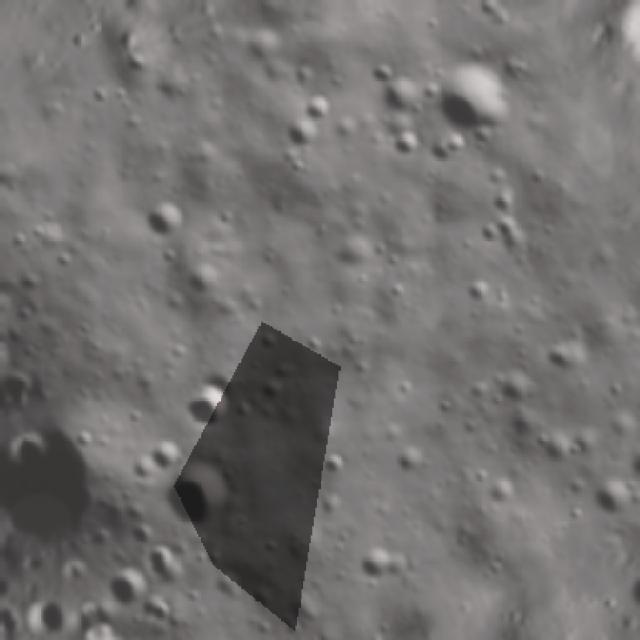crater: (417, 43, 535, 160), (143, 444, 252, 547), (341, 527, 427, 605), (171, 374, 246, 444), (126, 186, 199, 254), (575, 461, 640, 534), (369, 59, 437, 127), (414, 120, 477, 191), (136, 534, 202, 600), (478, 348, 542, 414), (535, 326, 597, 389), (272, 101, 332, 161), (174, 251, 235, 309), (98, 559, 153, 618), (111, 435, 166, 494), (455, 261, 507, 322), (139, 428, 193, 481), (381, 430, 434, 481), (296, 82, 349, 133), (558, 414, 607, 468), (478, 466, 524, 509), (316, 440, 358, 486), (358, 51, 399, 92), (617, 434, 640, 494), (0, 141, 8, 202), (367, 0, 415, 6)
